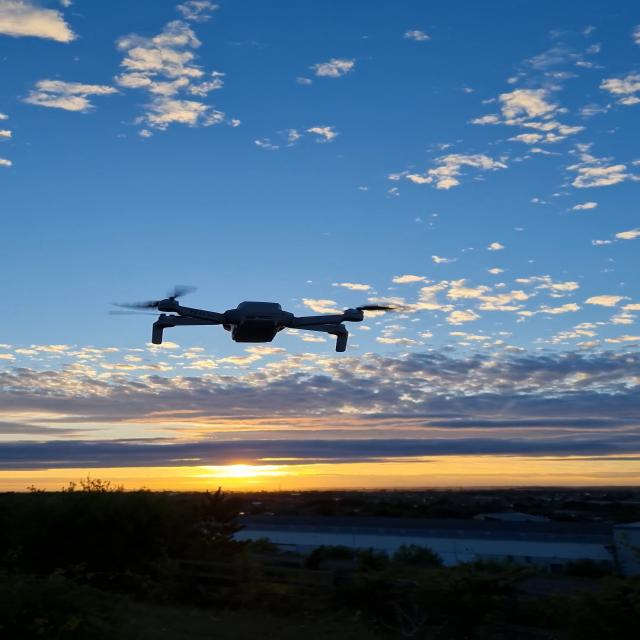Drone: (152, 280, 418, 348)
